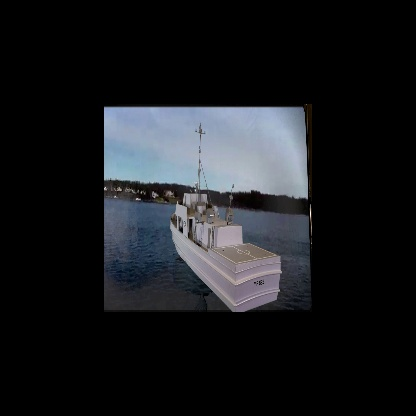YP689: (170, 123, 281, 312)
